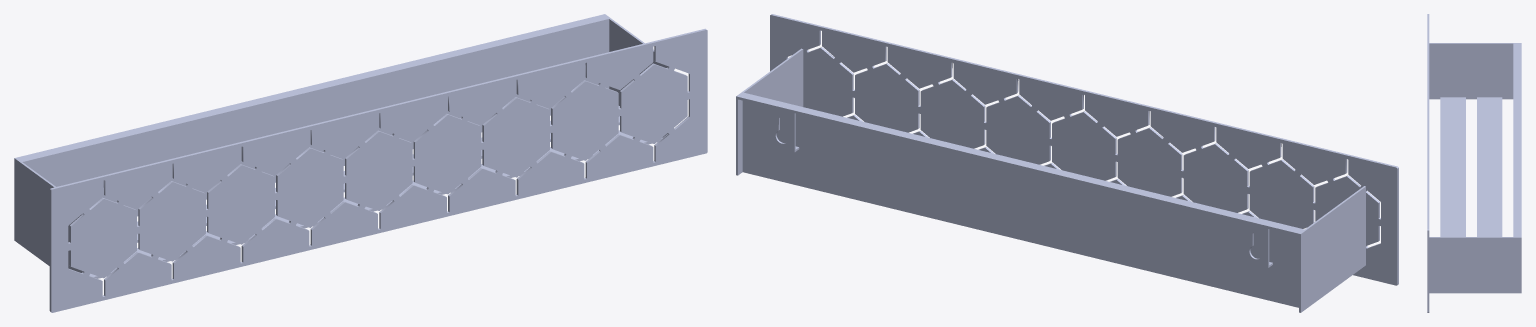
The model's file is bee-mono.b721fa9321.glb.
3 views of the same model, side by side, from view 1: azimuth 30°, elevation 25°; view 2: azimuth 150°, elevation 25°; view 3: azimuth 270°, elevation 25° (orthographic). The views are drawn at different scales.
Visible parts, largest first — view 1: NAUO1; view 2: NAUO1; view 3: NAUO1.
Boxes of the visible parts, left/top/right/bottom form: NAUO1: left=14, top=14, right=707, bottom=312; NAUO1: left=736, top=14, right=1398, bottom=312; NAUO1: left=1427, top=14, right=1521, bottom=312.
Size of the model in its own units: 0.5 by 0.09 by 0.092.
